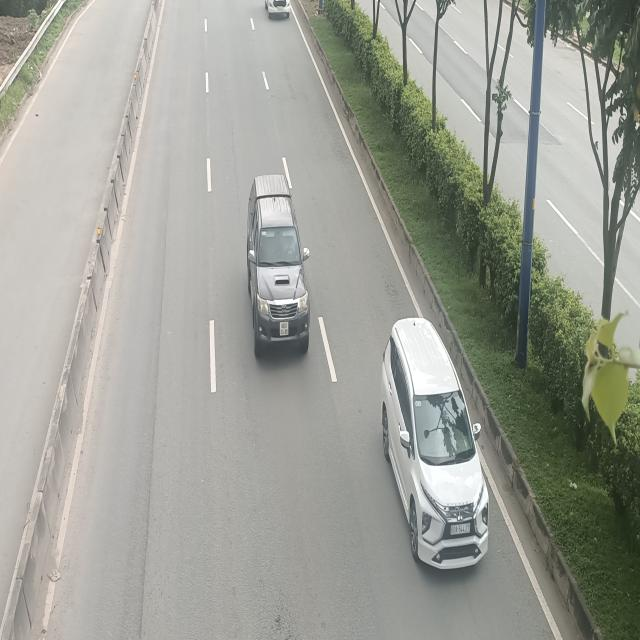car: (380, 318, 490, 572), (245, 175, 310, 353)
